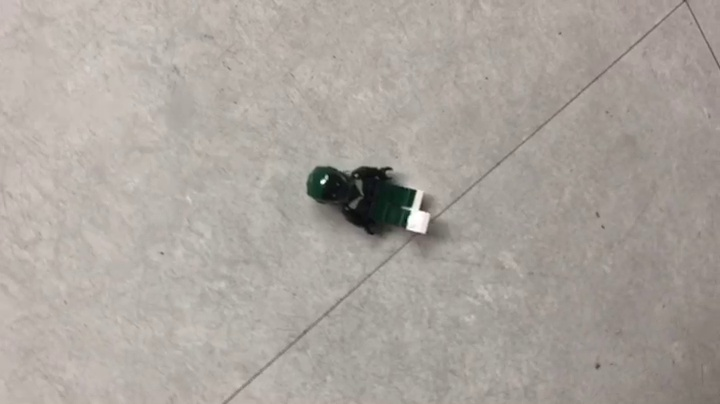people: (305, 165, 432, 238)
